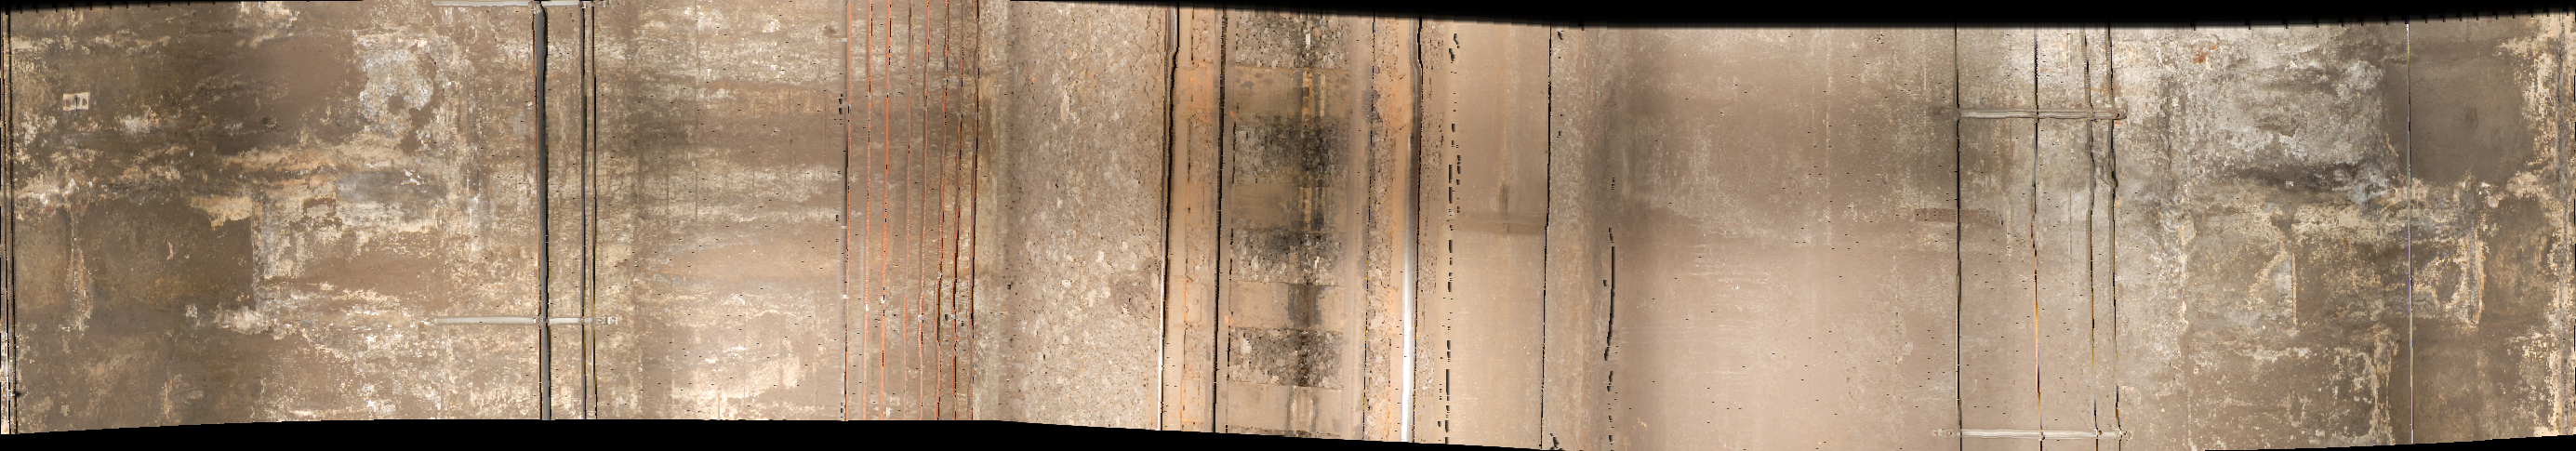pipes: (1940, 36, 2124, 451), (841, 5, 987, 449), (531, 5, 595, 441)
tracks: (1158, 8, 1447, 451)
